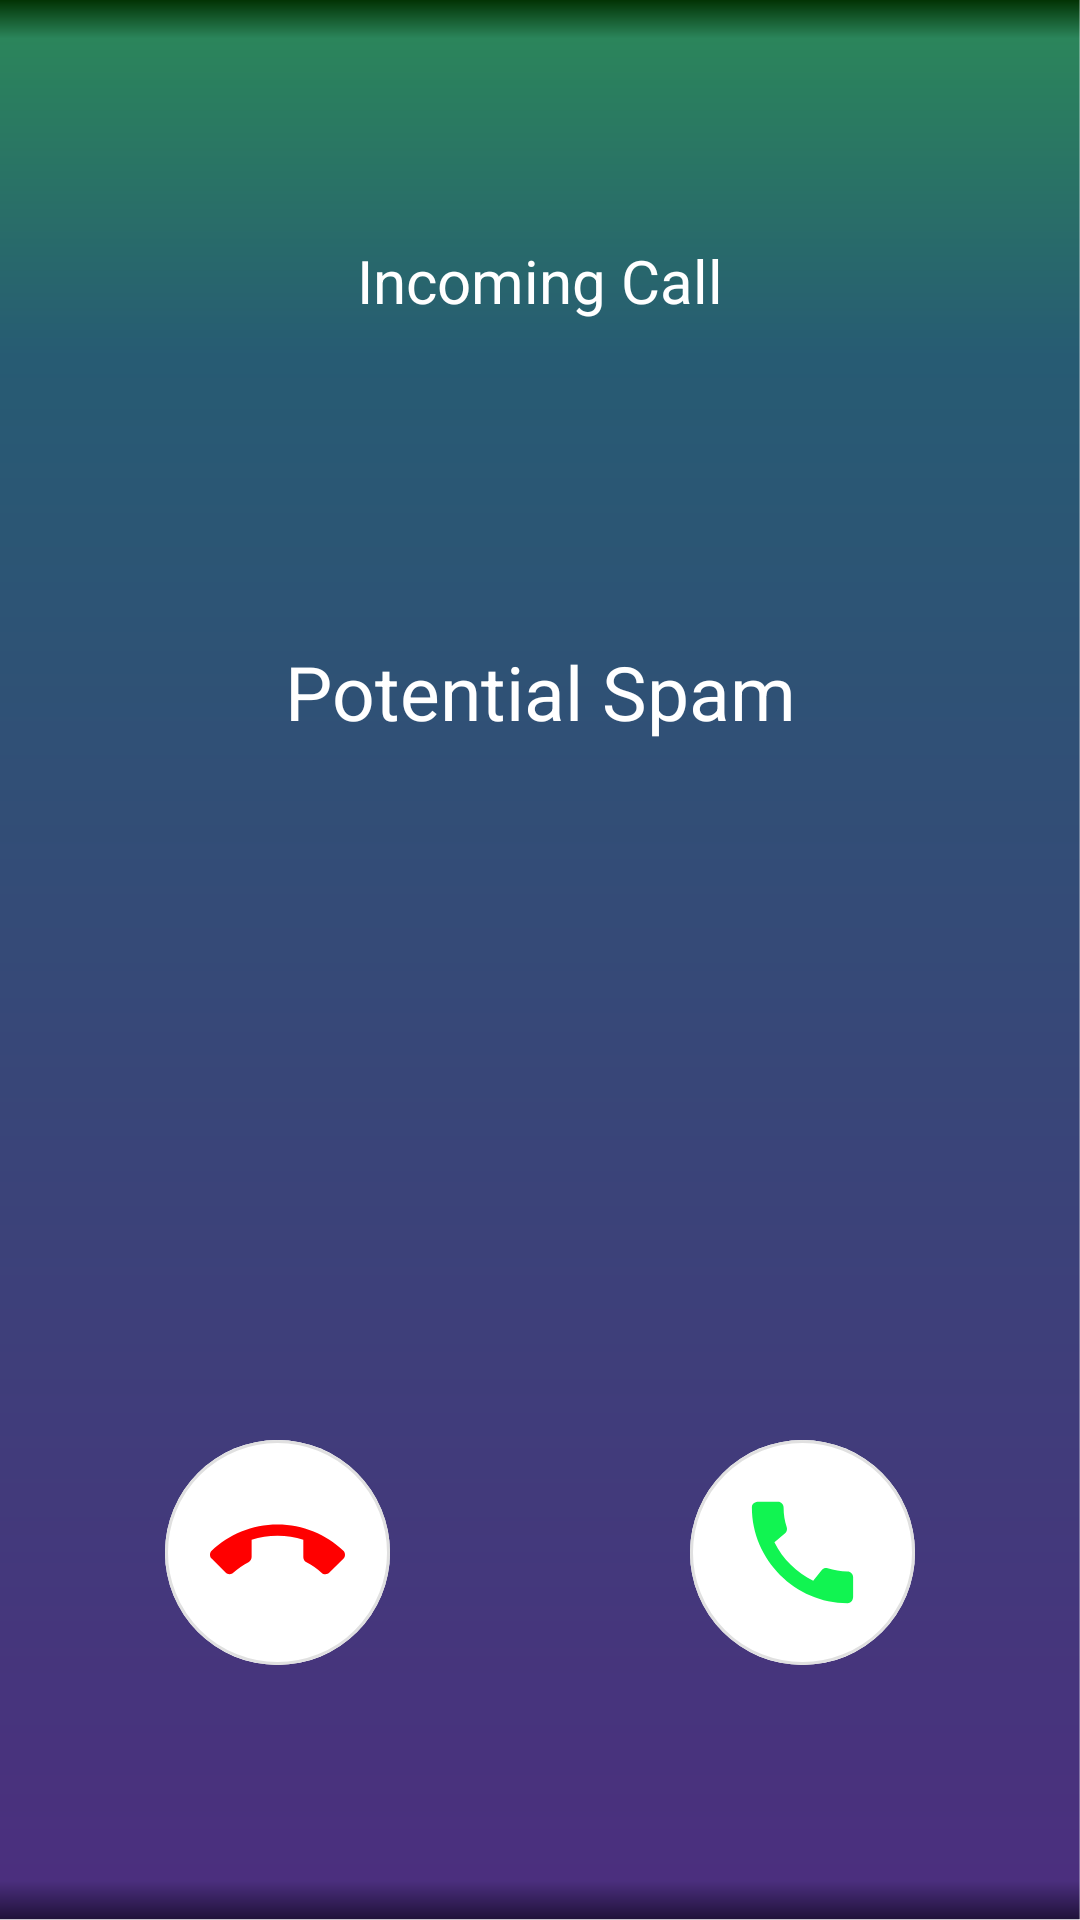

Named icons in this screenshot (1080*1920) and their centers, (x,y):
call: (802,1552)
call end: (277,1552)
